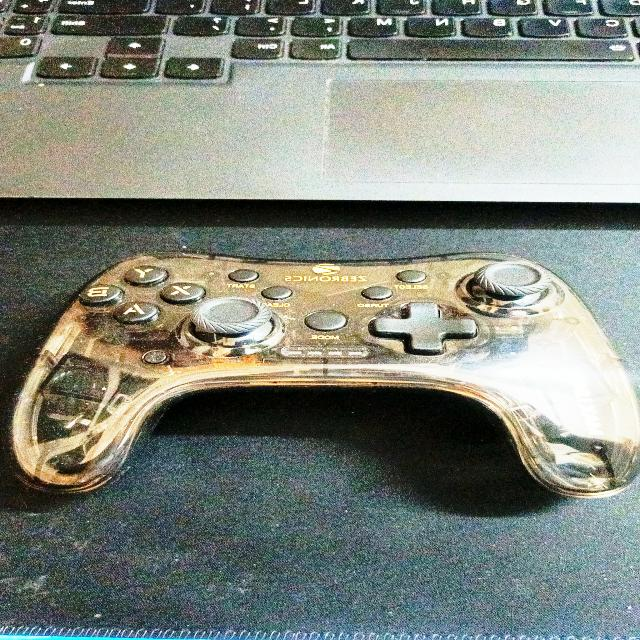gamepad: (8, 248, 640, 500)
